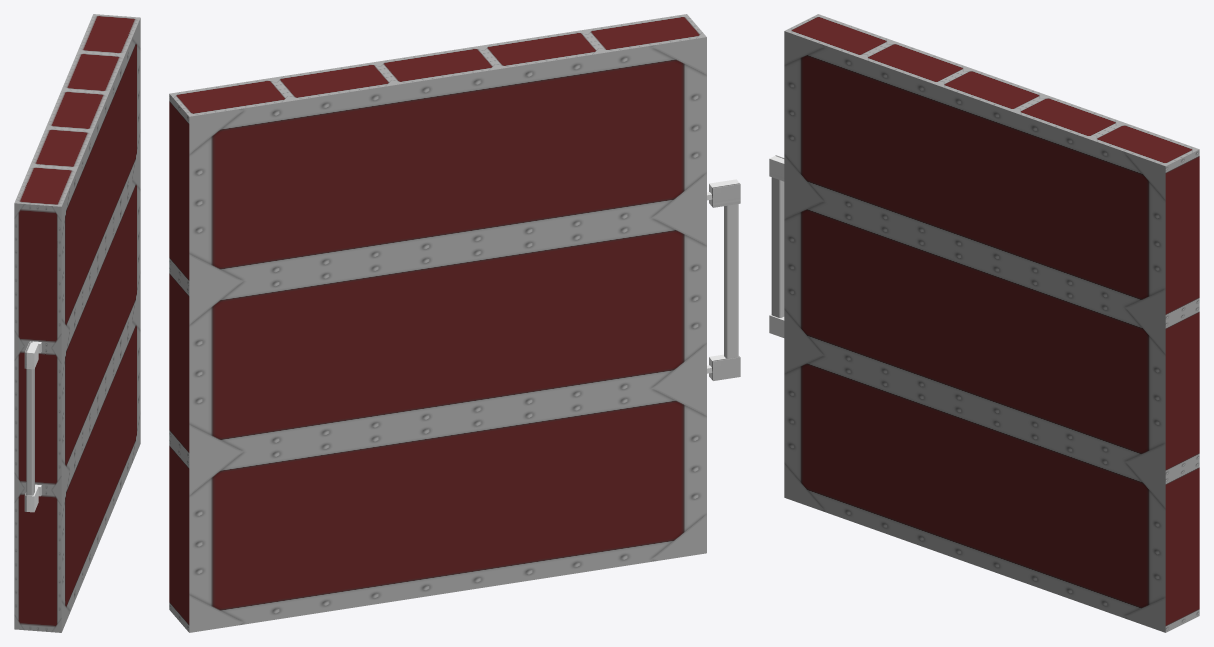
File: ISS_INT_props_Suitcase.FBX
The picture shows the model from 3 angles, left to right: view 1: azimuth 30°, elevation 25°; view 2: azimuth 150°, elevation 25°; view 3: azimuth 270°, elevation 25°; orthographic projection. The views are drawn at different scales.
Parts seen in each view (by area): view 1: Node1_int; view 2: Node1_int; view 3: Node1_int.
Boxes of the visible parts, x1,y1,x2,y2 form: Node1_int: (14,14,140,632); Node1_int: (169,14,740,632); Node1_int: (769,14,1199,632).
Bounding box in the file's own units: 0.0642 × 0.089 × 0.0744.
